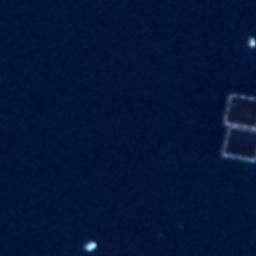square_solid: (219, 88, 256, 136), (217, 122, 256, 167)
